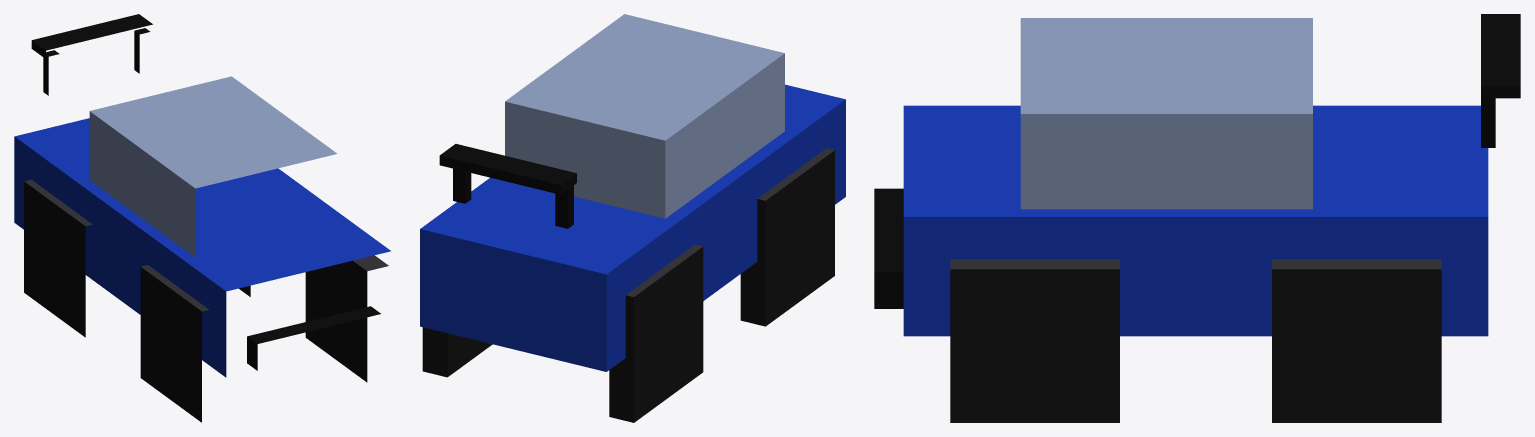
The model's file is car_blue.glb.
3 renders of one model, left to right at view 1: azimuth 30°, elevation 25°; view 2: azimuth 150°, elevation 25°; view 3: azimuth 270°, elevation 25°, orthographic. The views are drawn at different scales.
Parts seen in each view (by area): view 1: mesh0; view 2: mesh0; view 3: mesh0.
Boxes of the visible parts, x1=… form: mesh0: x1=14, y1=14, x2=390, y2=422; mesh0: x1=420, y1=14, x2=845, y2=422; mesh0: x1=874, y1=14, x2=1520, y2=422.
Size of the model in its own units: 2.04 by 2.32 by 4.42.
